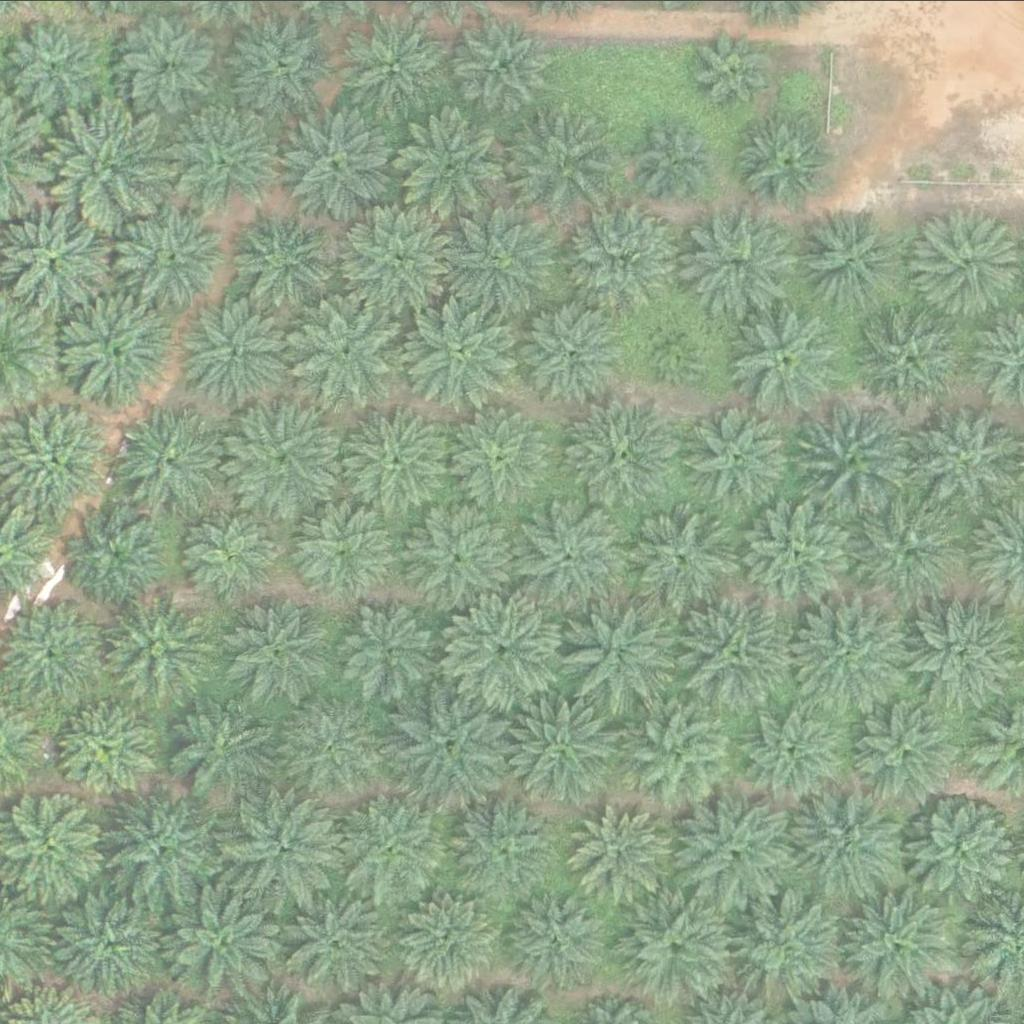Kelapa_Sawit: (563, 199, 677, 312), (404, 293, 518, 406), (164, 687, 278, 800), (620, 698, 734, 811), (678, 593, 792, 706), (796, 593, 910, 706), (852, 494, 966, 607), (57, 290, 170, 403), (53, 108, 166, 221), (333, 11, 446, 124), (344, 195, 457, 308), (439, 201, 552, 314), (179, 294, 292, 407), (295, 290, 408, 403), (114, 403, 227, 516), (228, 398, 341, 511), (447, 591, 560, 704), (559, 594, 672, 707), (277, 690, 390, 803), (396, 685, 509, 798), (508, 692, 621, 805), (108, 790, 221, 903), (230, 788, 343, 901), (841, 888, 954, 1001), (909, 597, 1022, 710), (730, 301, 843, 414), (852, 304, 965, 417), (687, 205, 800, 318), (791, 201, 904, 314), (99, 594, 213, 706), (342, 398, 456, 510), (223, 595, 337, 707), (742, 493, 856, 605), (907, 401, 1021, 513), (48, 881, 161, 993), (170, 103, 283, 215), (281, 106, 394, 218), (393, 101, 506, 213), (500, 102, 613, 214), (115, 196, 228, 308), (568, 396, 681, 508), (405, 497, 518, 609), (515, 493, 628, 605), (336, 788, 449, 900), (449, 790, 562, 902), (167, 883, 280, 995), (278, 886, 391, 998), (619, 893, 732, 1005), (735, 890, 848, 1002), (679, 791, 792, 903), (791, 785, 904, 897), (903, 791, 1016, 903), (846, 692, 959, 804), (624, 499, 737, 611), (800, 401, 913, 513), (65, 505, 166, 605), (3, 15, 104, 115), (122, 13, 223, 113), (226, 13, 327, 113), (453, 12, 554, 112), (232, 203, 333, 303), (568, 799, 669, 899), (400, 891, 501, 991), (506, 886, 607, 986), (689, 403, 790, 503), (57, 695, 157, 795), (521, 298, 621, 398), (452, 405, 552, 505), (184, 504, 284, 604), (298, 499, 398, 599), (342, 596, 442, 696), (747, 700, 847, 800), (743, 115, 832, 203), (643, 119, 719, 194), (694, 33, 769, 108), (646, 315, 709, 377)
